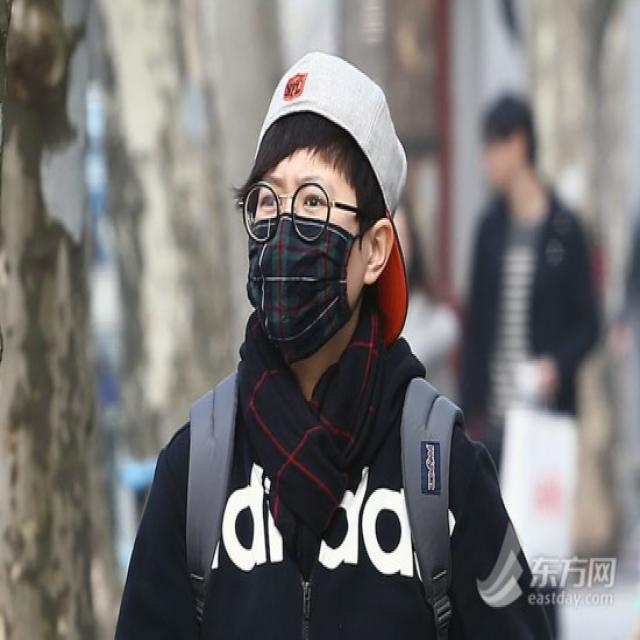mask: (246, 144, 359, 348)
